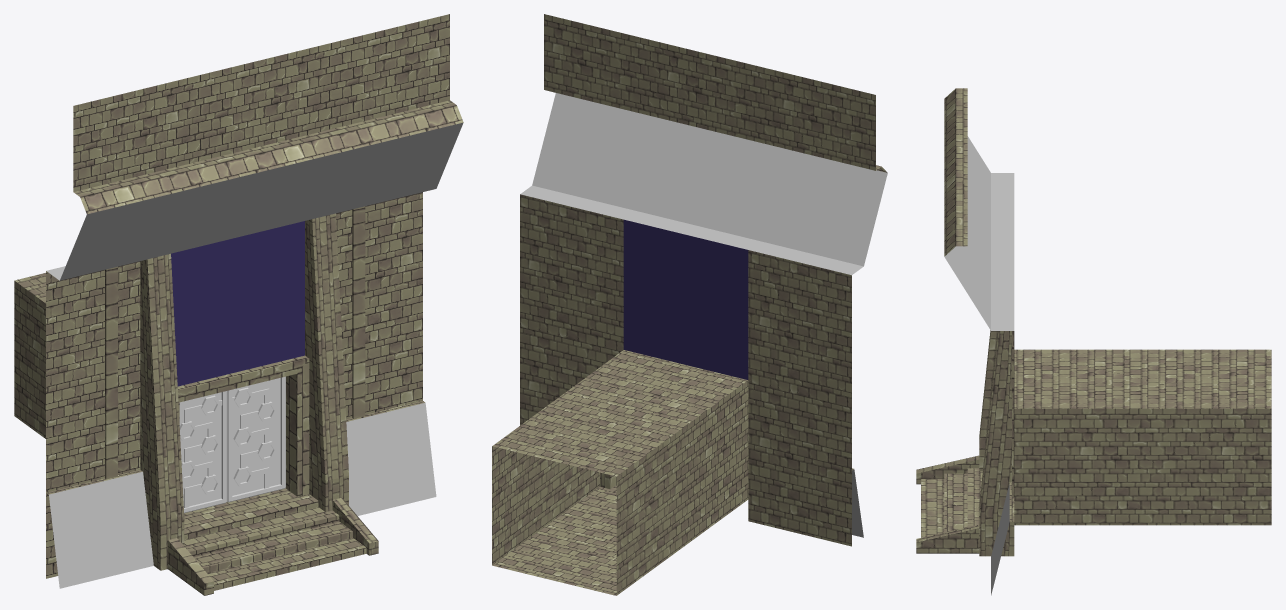
File: Hub_EndgameDoor.FBX
3 renders of one model, left to right at view 1: azimuth 30°, elevation 25°; view 2: azimuth 150°, elevation 25°; view 3: azimuth 270°, elevation 25°, orthographic. The views are drawn at different scales.
Parts seen in each view (by area): view 1: Hub_EndgameDoor, Hub_EndgameDoor_RightDoor, Hub_EndgameDoor_LeftDoor; view 2: Hub_EndgameDoor; view 3: Hub_EndgameDoor.
Boxes of the visible parts, x1,y1,x2,y2 form: Hub_EndgameDoor: (14, 14, 463, 595); Hub_EndgameDoor_RightDoor: (227, 376, 285, 502); Hub_EndgameDoor_LeftDoor: (179, 391, 226, 513); Hub_EndgameDoor: (492, 14, 887, 595); Hub_EndgameDoor: (916, 88, 1271, 595).
Bounding box in the file's own units: 16 × 20 × 15.2.
